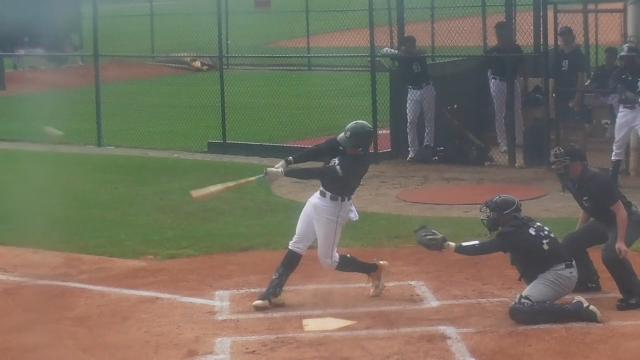ball: (44, 124, 66, 139)
bat: (188, 173, 272, 203)
